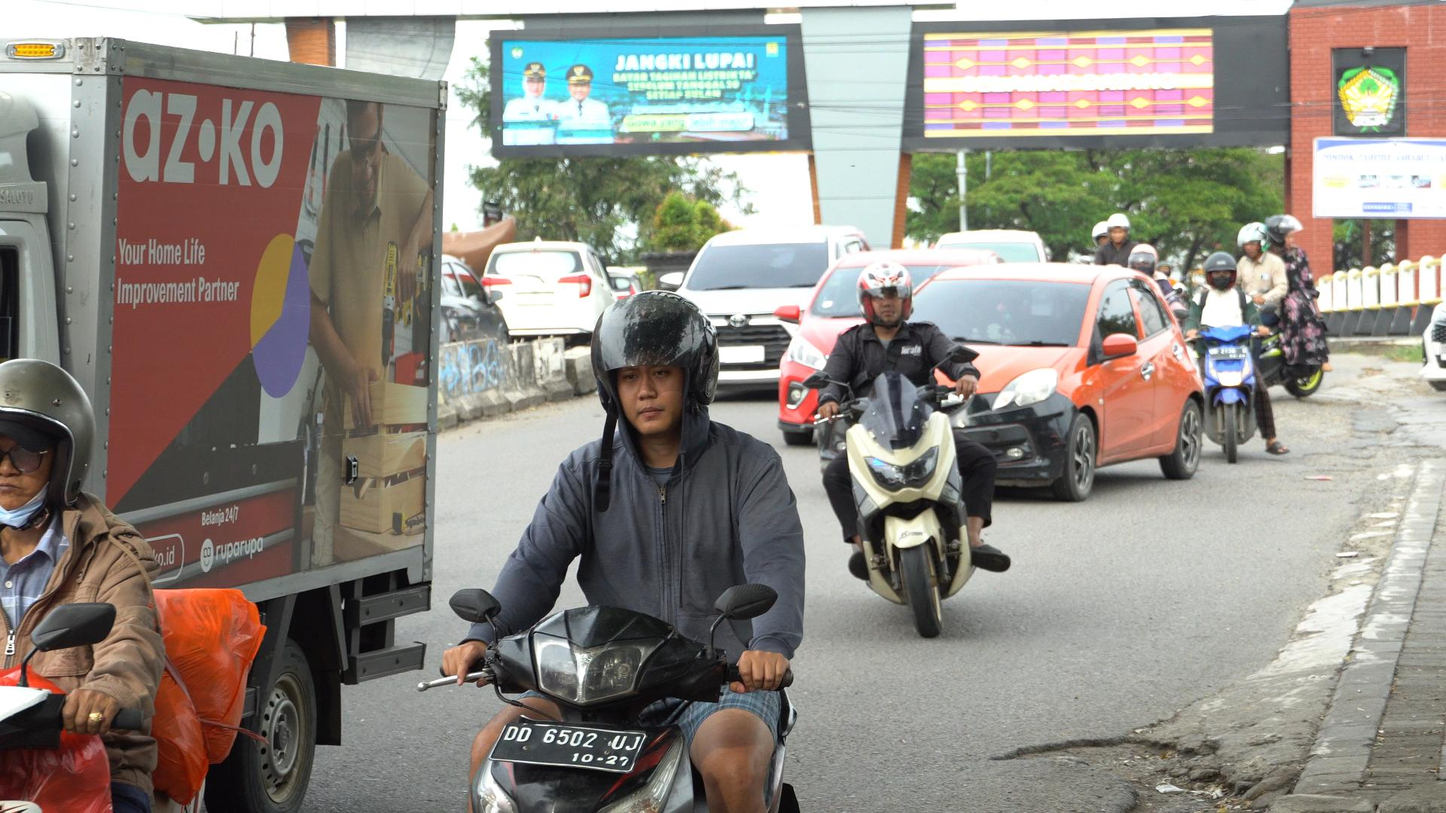number-plate: (482, 711, 650, 780)
